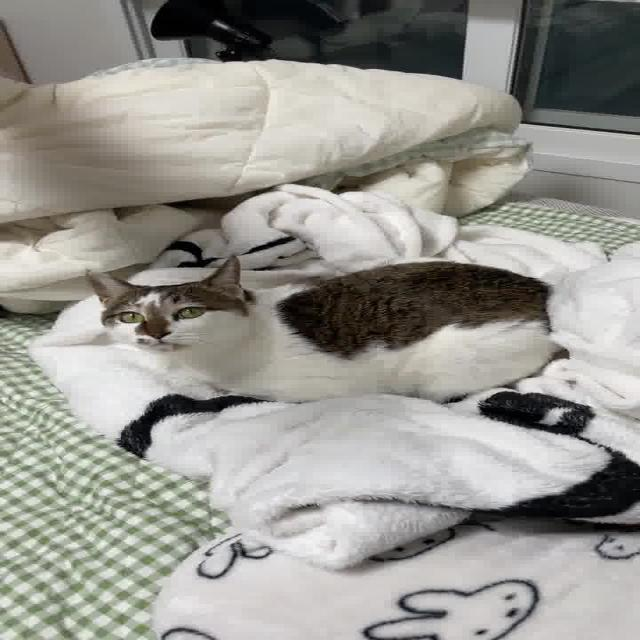cat: (55, 246, 603, 422)
